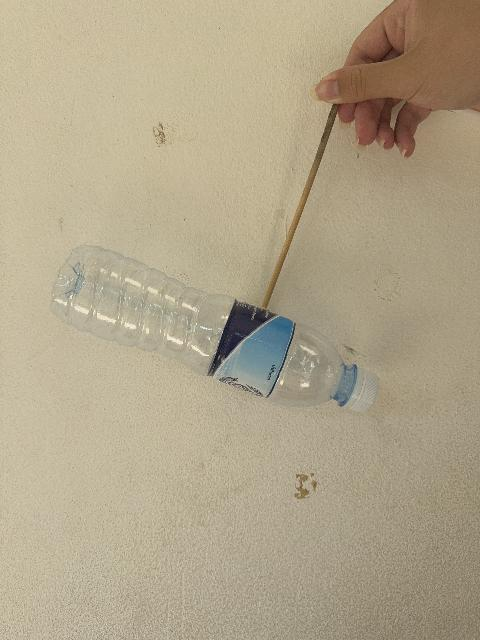bottle: (52, 246, 378, 412)
